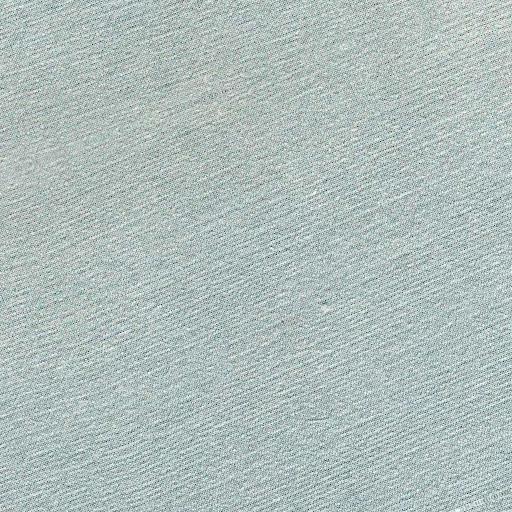knot: (305, 294, 349, 324)
